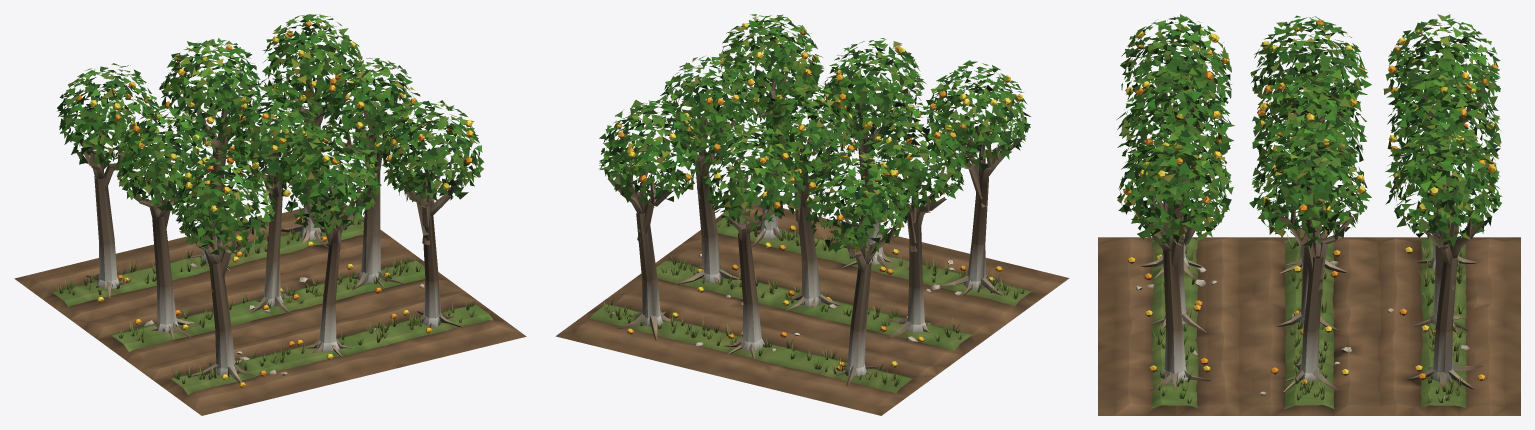
The model's file is plantation.glb.
3 renders of one model, left to right at view 1: azimuth 30°, elevation 25°; view 2: azimuth 150°, elevation 25°; view 3: azimuth 270°, elevation 25°, orthographic. The views are drawn at different scales.
Parts seen in each view (by area): view 1: plantation; view 2: plantation; view 3: plantation.
Part boxes in pixels (<box>): plantation: <box>14,14,526,415</box>; plantation: <box>555,14,1069,415</box>; plantation: <box>1098,14,1520,415</box>.
Bounding box in the file's own units: 1 × 0.6537 × 1.
